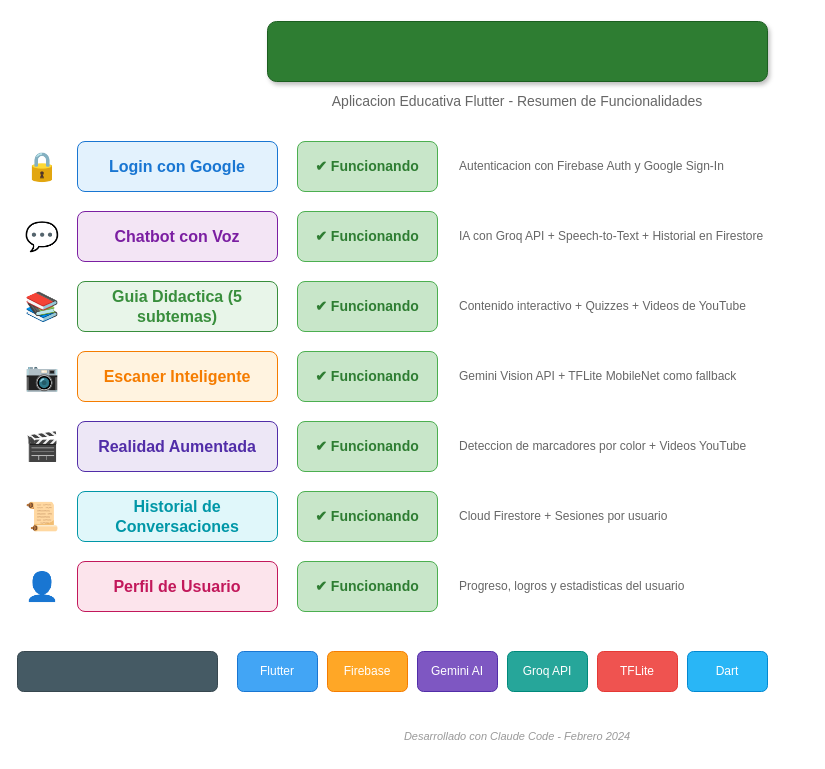
Some shapes in this 825 by 769 pixel diagram are drawn without their labels. The centre of each missing label's shape, as x and y in pixels:
MI APP - CIENCIAS NATURALES: point 518,52
TECNOLOGIAS UTILIZADAS: point 117,671
